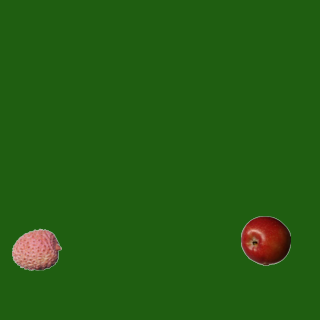Apple Braeburn: (240, 215, 290, 265)
Lychee: (11, 224, 61, 274)
